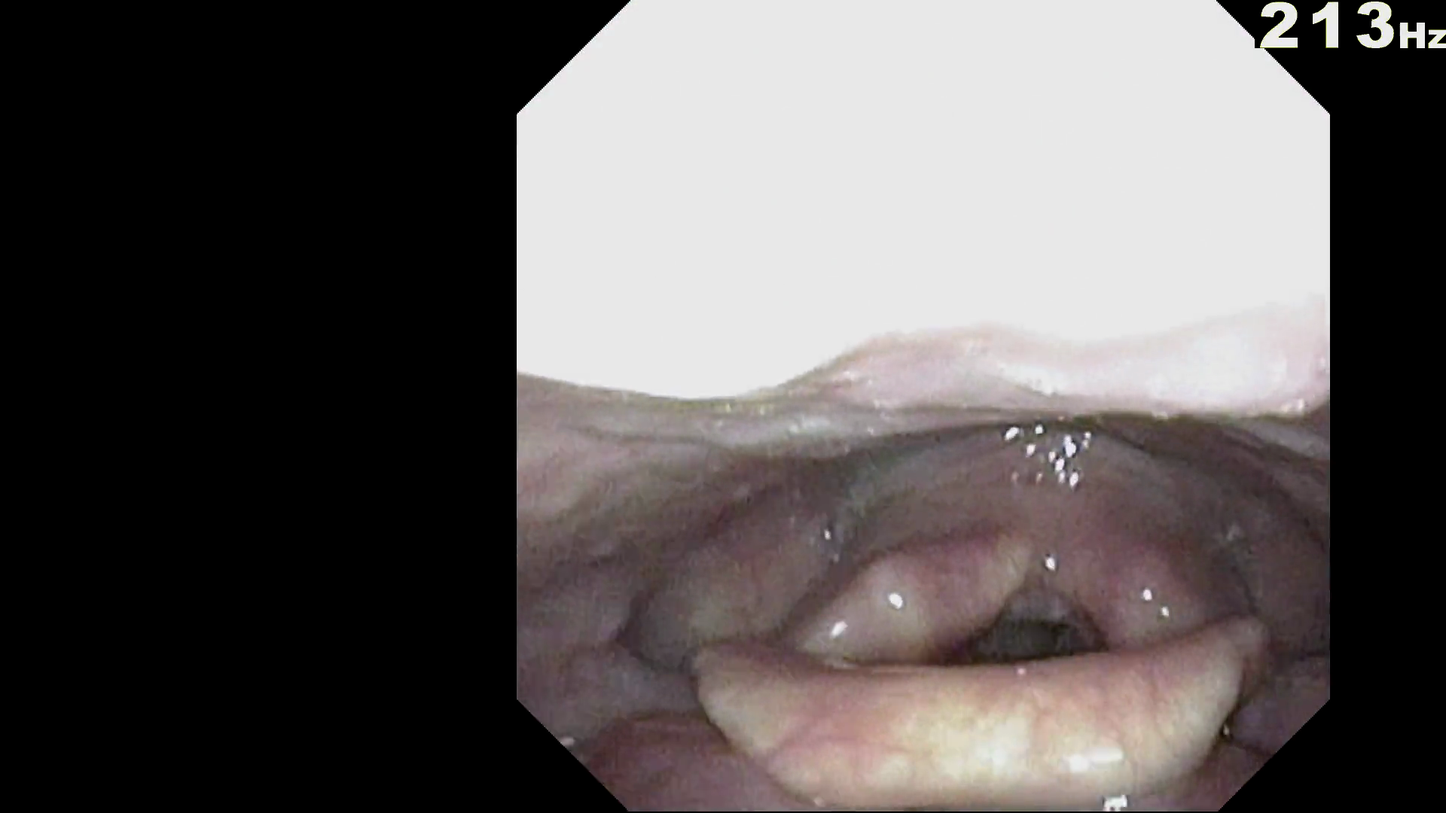epiglottis: (697, 654, 1239, 793)
trachea: (948, 586, 1085, 693)
